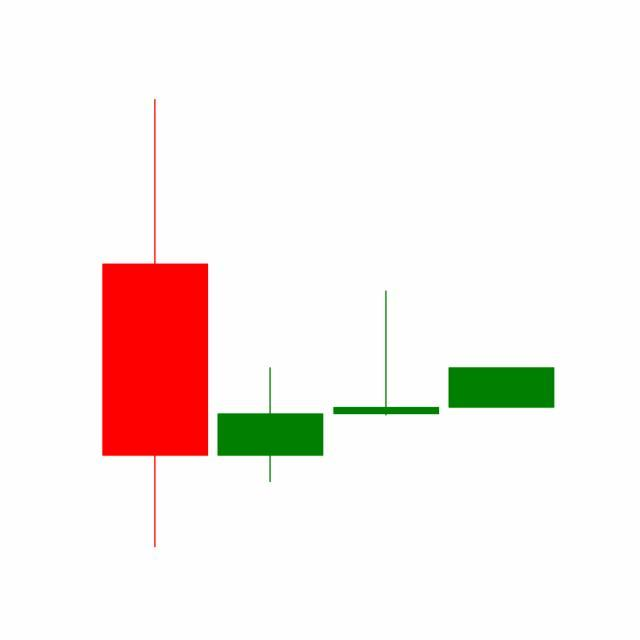Gravestone Doji: (329, 289, 445, 418)
